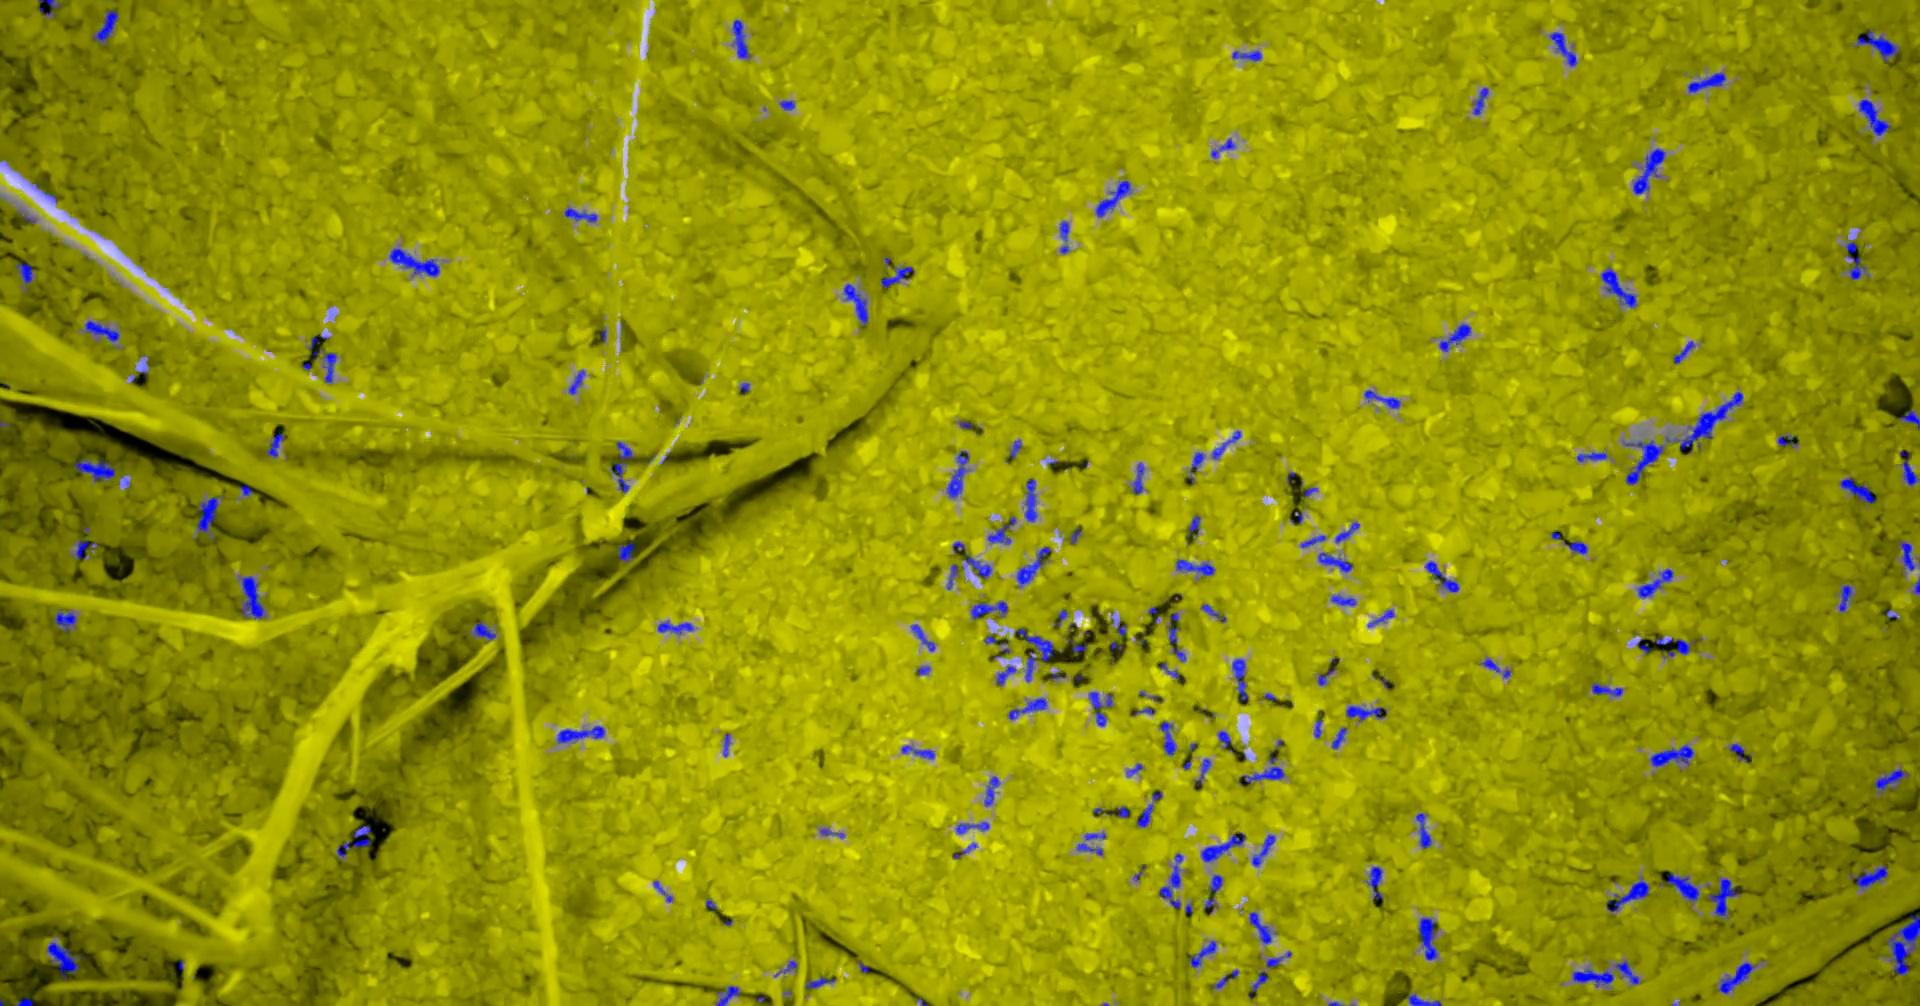ant: (1667, 391, 1745, 453), (1888, 913, 1920, 976), (1625, 439, 1665, 484), (1634, 149, 1667, 194), (1857, 29, 1901, 62), (391, 246, 441, 276), (1603, 267, 1638, 307), (1608, 876, 1650, 911), (48, 942, 86, 979), (1239, 754, 1286, 784), (1203, 832, 1247, 862), (1709, 876, 1741, 918), (1018, 546, 1051, 586), (1018, 627, 1055, 662), (1161, 854, 1183, 908), (1097, 180, 1131, 216), (612, 441, 635, 492), (198, 495, 225, 539), (1721, 962, 1756, 993), (338, 824, 372, 856), (1860, 99, 1891, 135), (1639, 568, 1674, 598), (241, 575, 265, 619), (949, 450, 970, 497), (844, 283, 869, 325), (1426, 561, 1460, 591), (1550, 30, 1578, 66), (1851, 864, 1890, 889), (1651, 744, 1695, 766), (75, 459, 117, 481), (1669, 873, 1702, 901), (94, 9, 119, 43), (1841, 478, 1876, 503), (1441, 323, 1472, 351), (559, 725, 606, 743), (1010, 697, 1048, 719), (1213, 431, 1242, 459), (1090, 691, 1112, 727), (1420, 917, 1439, 959), (1876, 767, 1909, 791), (989, 516, 1017, 544), (1575, 968, 1615, 987), (1253, 835, 1277, 866), (1657, 636, 1697, 655), (1689, 72, 1727, 91), (1848, 241, 1867, 279), (971, 600, 1010, 619), (1250, 911, 1272, 942), (1233, 658, 1250, 701), (1191, 940, 1218, 967), (1365, 389, 1402, 408), (1170, 621, 1187, 661), (86, 320, 121, 340), (883, 265, 914, 287), (1901, 450, 1920, 485), (1319, 553, 1354, 572), (734, 19, 750, 58), (1177, 559, 1217, 575), (966, 554, 993, 578), (912, 624, 936, 650), (1347, 705, 1388, 720), (985, 633, 1011, 657), (1368, 866, 1385, 899), (1617, 960, 1641, 984), (1482, 658, 1512, 677), (1417, 812, 1432, 848), (1026, 478, 1039, 521), (1336, 521, 1361, 542), (1161, 721, 1177, 754), (1674, 340, 1697, 363), (17, 262, 34, 291), (74, 539, 99, 559), (268, 432, 287, 459), (1250, 970, 1269, 997), (1189, 452, 1205, 483), (1900, 540, 1916, 570), (310, 334, 330, 358), (717, 984, 742, 1005), (1214, 969, 1239, 988), (1369, 608, 1396, 626), (55, 611, 77, 631), (1211, 138, 1236, 158), (659, 620, 695, 633), (1196, 758, 1211, 788), (985, 776, 1001, 805), (1592, 682, 1624, 696), (1730, 743, 1752, 762), (903, 746, 936, 758), (957, 821, 990, 833), (997, 664, 1017, 685), (475, 621, 497, 640), (655, 880, 674, 902), (566, 208, 598, 221), (1203, 605, 1227, 621), (1476, 86, 1490, 114), (325, 352, 338, 382), (1901, 409, 1920, 429), (1267, 951, 1293, 967), (806, 976, 837, 988), (1138, 804, 1156, 826), (570, 370, 585, 394), (1134, 462, 1145, 494), (618, 541, 636, 561), (1161, 662, 1181, 680), (41, 0, 62, 17), (1563, 539, 1589, 553), (1840, 586, 1854, 611), (1219, 730, 1236, 751), (1410, 995, 1443, 1005), (1333, 727, 1349, 748), (1302, 535, 1327, 547), (1233, 50, 1263, 60), (1189, 514, 1201, 539), (1027, 652, 1037, 681), (1062, 220, 1070, 253), (1319, 667, 1336, 685), (1078, 843, 1103, 855), (1578, 452, 1609, 461), (949, 563, 959, 589), (1332, 594, 1357, 605), (1069, 639, 1090, 652), (780, 960, 799, 973), (1011, 439, 1023, 457), (1779, 434, 1801, 445), (1211, 874, 1224, 890), (1112, 807, 1130, 817), (1070, 527, 1082, 542), (1316, 718, 1324, 737), (1086, 832, 1107, 840), (781, 100, 796, 111), (725, 733, 731, 756), (17, 997, 34, 1005)
